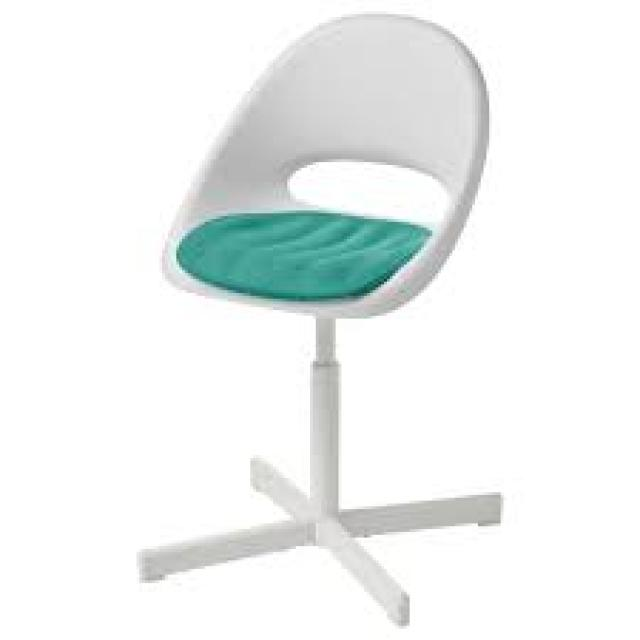chair: (68, 8, 568, 640)
